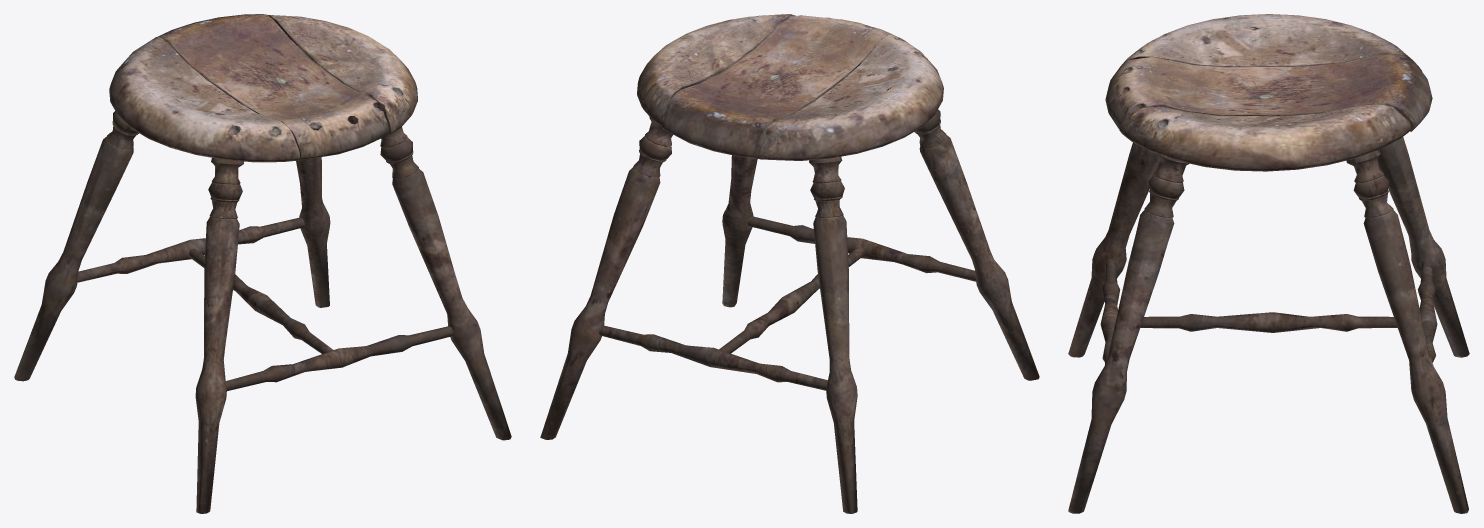
File: wooden_stool_01.glb
The picture shows the model from 3 angles, left to right: view 1: azimuth 30°, elevation 25°; view 2: azimuth 150°, elevation 25°; view 3: azimuth 270°, elevation 25°; orthographic projection. The views are drawn at different scales.
Visible parts, largest first — view 1: wooden_stool_01; view 2: wooden_stool_01; view 3: wooden_stool_01.
Boxes of the visible parts, x1=… form: wooden_stool_01: x1=14, y1=14, x2=511, y2=513; wooden_stool_01: x1=540, y1=14, x2=1039, y2=513; wooden_stool_01: x1=1068, y1=14, x2=1469, y2=513.
Bounding box in the file's own units: 0.4246 × 0.4365 × 0.4417.
Materials: 1 (1 with a texture image).
